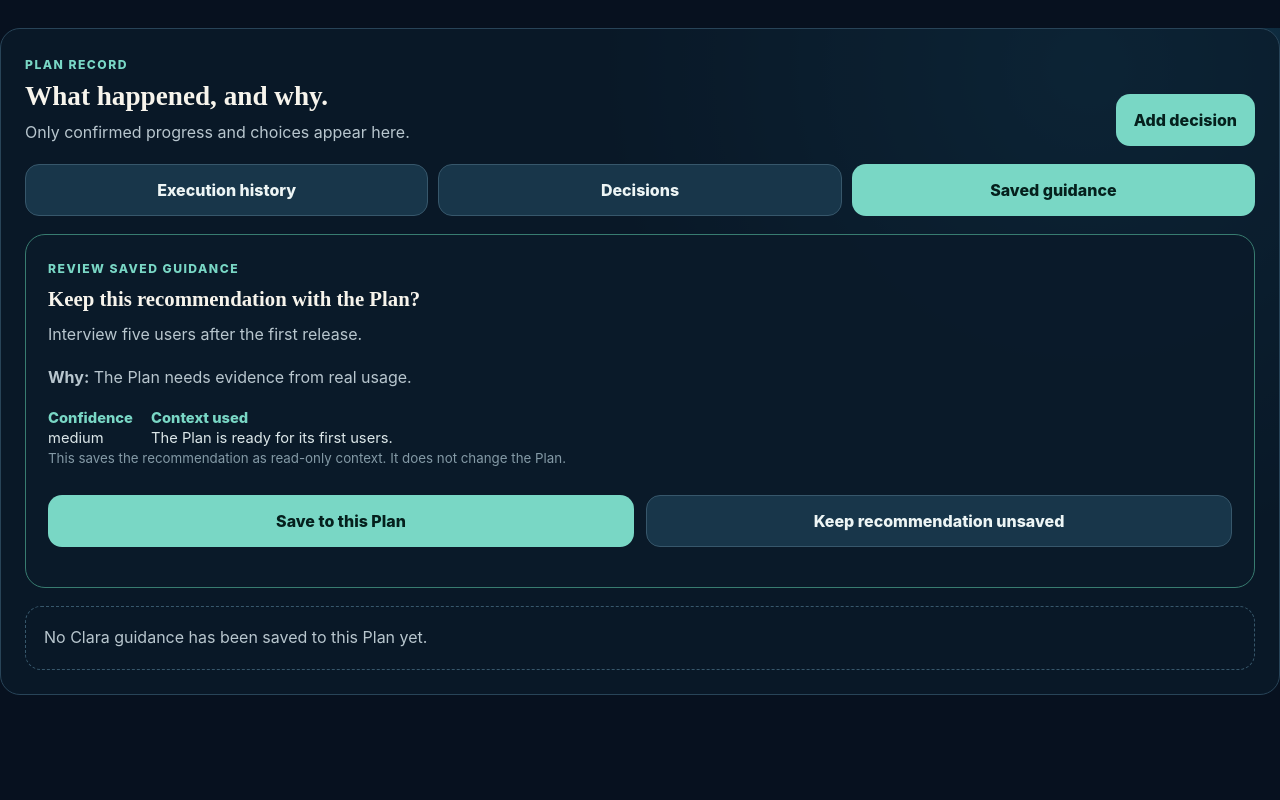
Scenario: PlanRecordSection › classifies a disconnected save and preserves the unsaved guidance
The image size is (1280, 800).
Click the button "Save to this Plan": (341, 521) [48, 495, 634, 547]
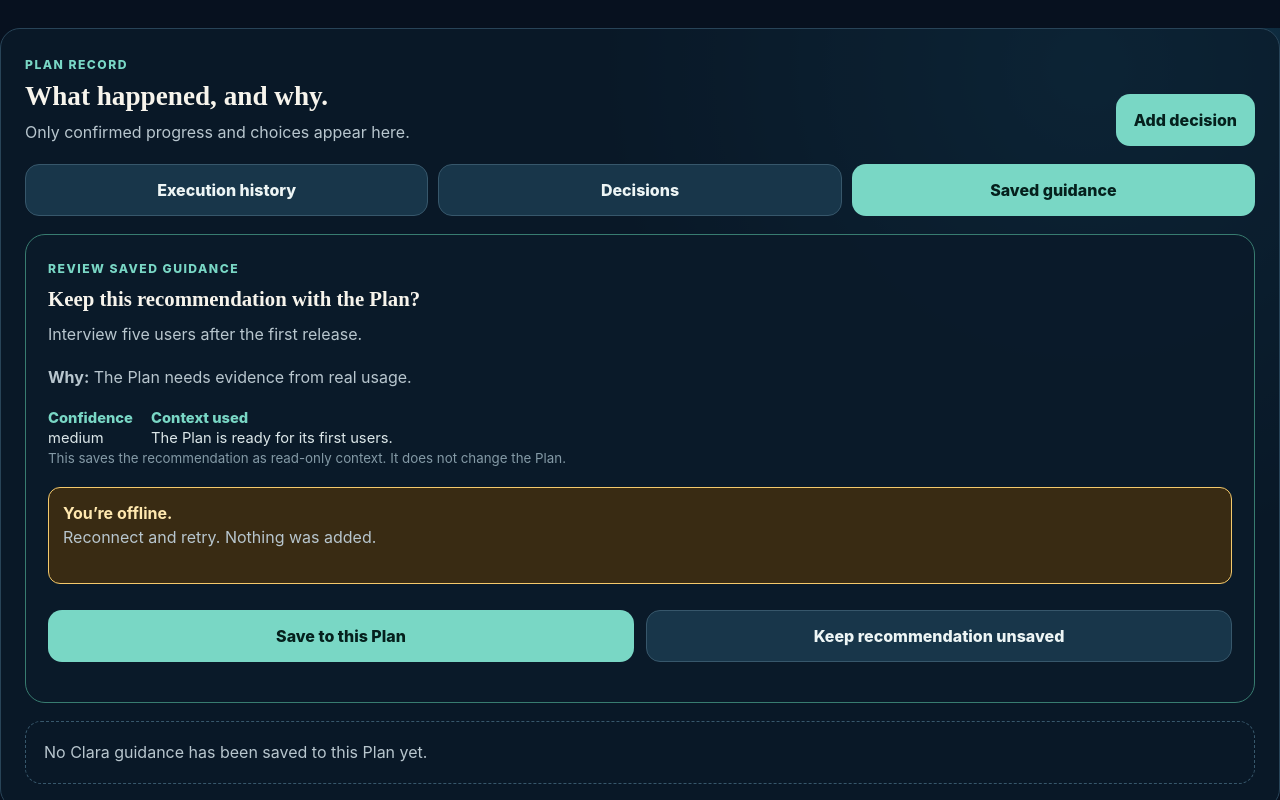
Expected: the text "Interview five users after the first release." is shown, [48, 324, 362, 344]
Expected: the text "You’re offline." is shown, [63, 503, 172, 523]
